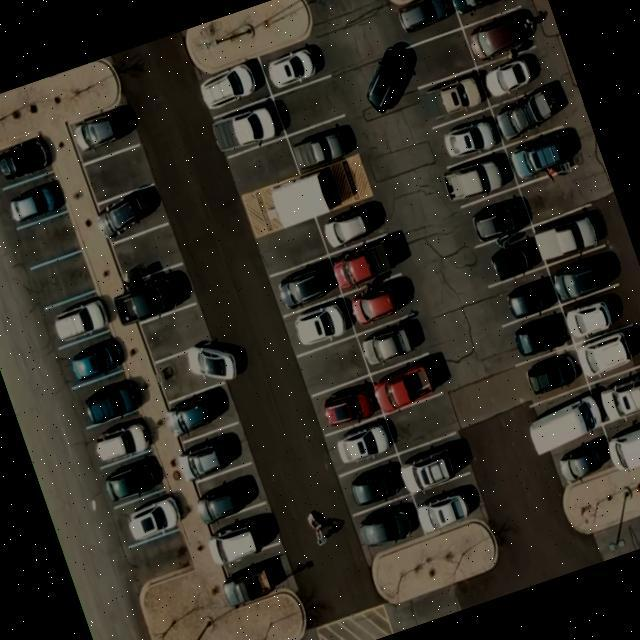space-empty: (150, 338, 230, 404), (516, 162, 596, 226), (104, 222, 182, 287), (382, 391, 460, 453), (272, 74, 348, 136), (253, 216, 329, 278), (80, 141, 155, 203), (137, 302, 212, 364), (294, 334, 368, 396), (402, 27, 476, 88), (26, 248, 98, 308), (228, 136, 300, 196), (13, 210, 80, 269), (123, 528, 192, 584)
space-occupied: (110, 260, 196, 330), (354, 310, 436, 380), (340, 267, 421, 336), (530, 202, 612, 270), (312, 192, 392, 260), (200, 504, 282, 570), (82, 406, 161, 474), (395, 430, 474, 496), (368, 351, 448, 416), (438, 146, 519, 210), (40, 287, 117, 354), (55, 329, 133, 395), (172, 421, 252, 485), (210, 93, 286, 160), (504, 125, 580, 192), (412, 67, 491, 131), (187, 462, 266, 526), (63, 100, 142, 164), (513, 342, 589, 408), (258, 35, 336, 99), (543, 429, 617, 496), (476, 45, 552, 110), (220, 544, 297, 608), (410, 472, 488, 535), (68, 367, 142, 433), (112, 486, 188, 550), (282, 294, 356, 359), (461, 7, 539, 68), (284, 116, 360, 178), (96, 445, 168, 510), (308, 376, 382, 439), (558, 283, 632, 346), (196, 56, 272, 117), (163, 380, 237, 441), (270, 254, 342, 316), (324, 412, 396, 474), (460, 188, 532, 250), (498, 306, 572, 366), (527, 387, 598, 449), (350, 493, 422, 554), (94, 182, 166, 243), (488, 266, 560, 326), (574, 320, 640, 385), (474, 229, 546, 288), (491, 87, 564, 145), (547, 249, 621, 305), (338, 455, 408, 514), (436, 108, 506, 167), (0, 170, 68, 230), (328, 235, 403, 287), (588, 360, 640, 433), (389, 0, 460, 45), (0, 133, 54, 190), (600, 403, 640, 468), (444, 0, 528, 26)
